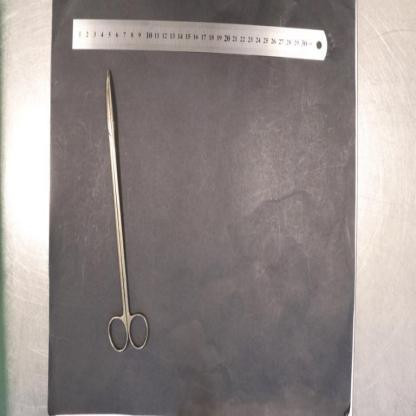9 Metzenbaum Scissors: (107, 68, 150, 352)
